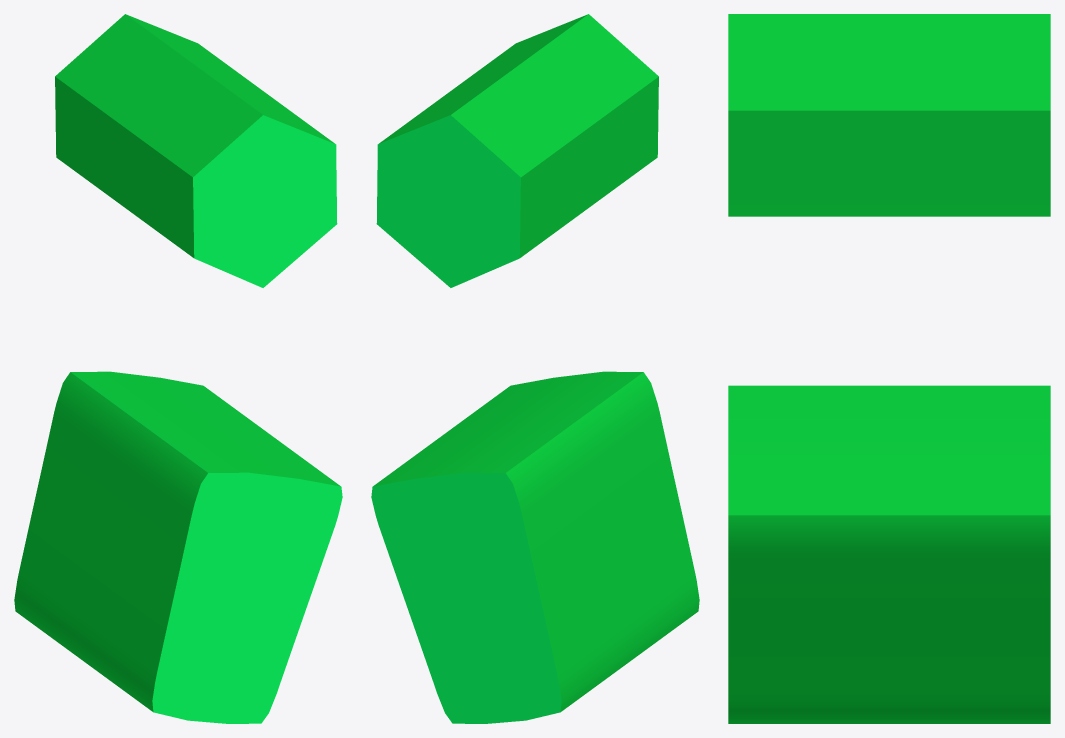
File: aab296c6-ff27-4163-8183-a371da2bcab5.glb
3 views of the same model, side by side, from view 1: azimuth 30°, elevation 25°; view 2: azimuth 150°, elevation 25°; view 3: azimuth 270°, elevation 25° (orthographic). The views are drawn at different scales.
Visible parts, largest first — view 1: ;_Zyzol_Green; view 2: ;_Zyzol_Green; view 3: ;_Zyzol_Green.
Part boxes in pixels (bbox=[...]): ;_Zyzol_Green: bbox=[14, 14, 342, 723]; ;_Zyzol_Green: bbox=[371, 14, 699, 723]; ;_Zyzol_Green: bbox=[728, 14, 1050, 723].
Size of what is drawn, in the model's own units: 0.0358 by 0.1094 by 0.045.
2 materials, 2 textured.
